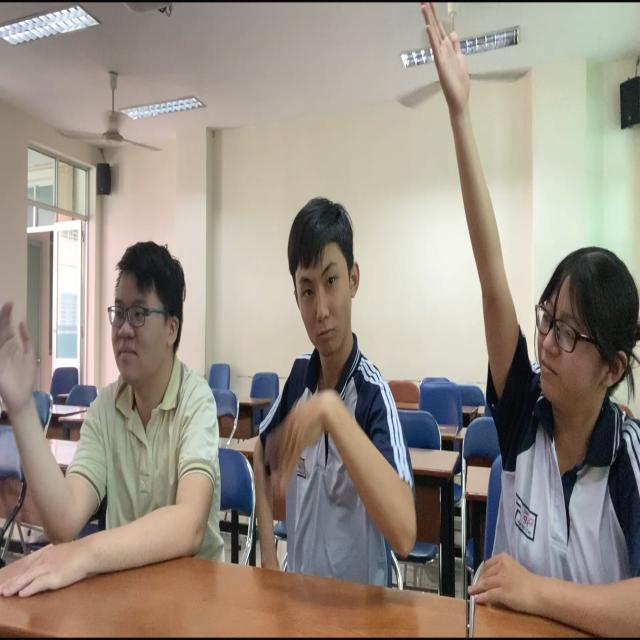raise_hand: (415, 4, 640, 640)
